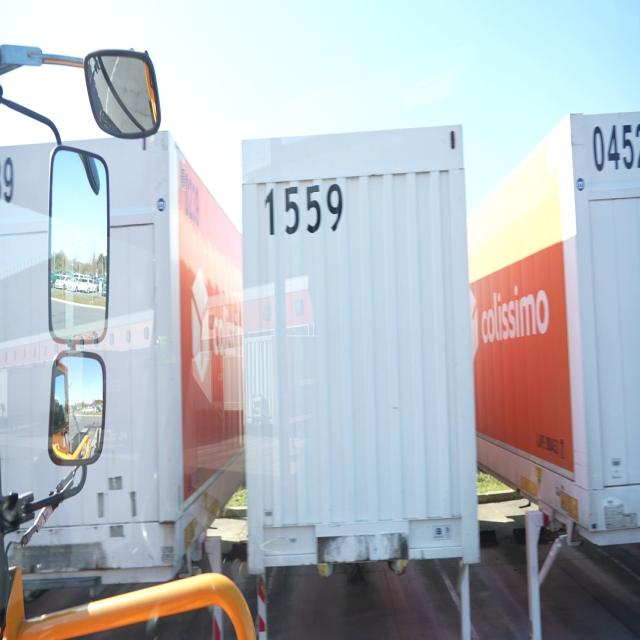Code: (261, 179, 351, 242)
